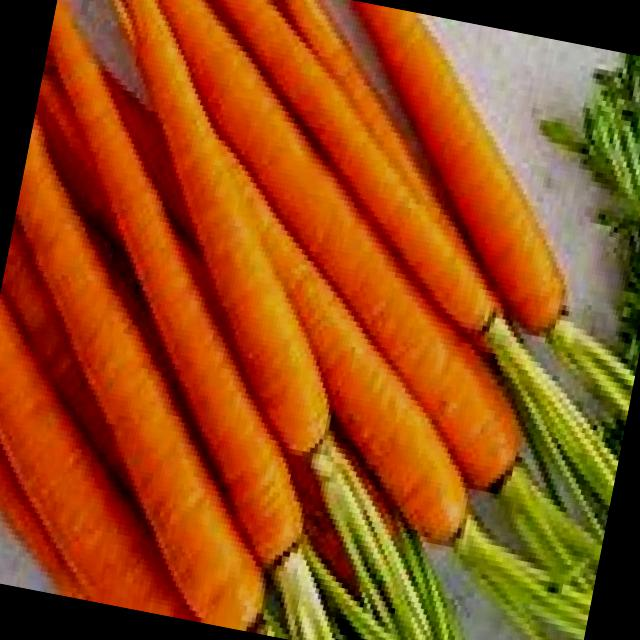carrot: (53, 7, 305, 570), (19, 128, 273, 628), (116, 0, 329, 458), (215, 0, 497, 344), (346, 0, 564, 335)
